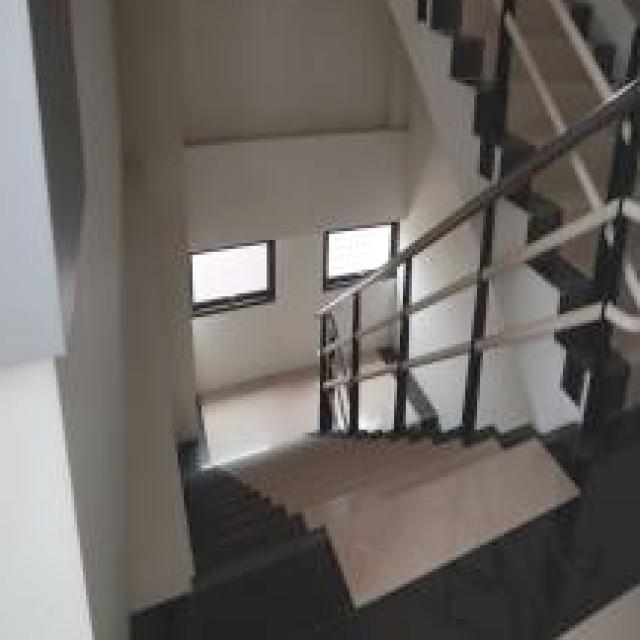downstair: (220, 463, 463, 623)
